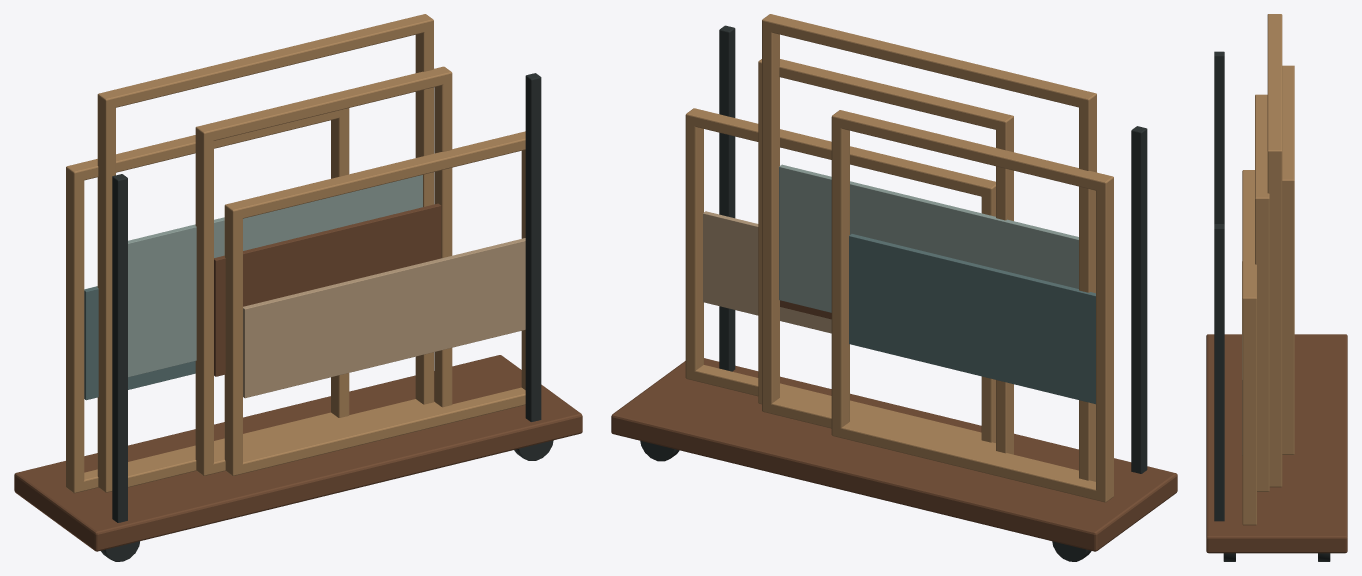
The model's file is SM_CP_SceneryTrolley.fbx.
3 views of the same model, side by side, from view 1: azimuth 30°, elevation 25°; view 2: azimuth 150°, elevation 25°; view 3: azimuth 270°, elevation 25° (orthographic). The views are drawn at different scales.
Visible parts, largest first — view 1: SM_CP_SceneryTrolley; view 2: SM_CP_SceneryTrolley; view 3: SM_CP_SceneryTrolley.
Boxes of the visible parts, box(x1,y1,x2,y2) form: SM_CP_SceneryTrolley: box(14, 14, 582, 561); SM_CP_SceneryTrolley: box(611, 14, 1177, 561); SM_CP_SceneryTrolley: box(1206, 14, 1347, 561).
Size of what is drawn, in the model's own units: 460 by 135 by 398.
